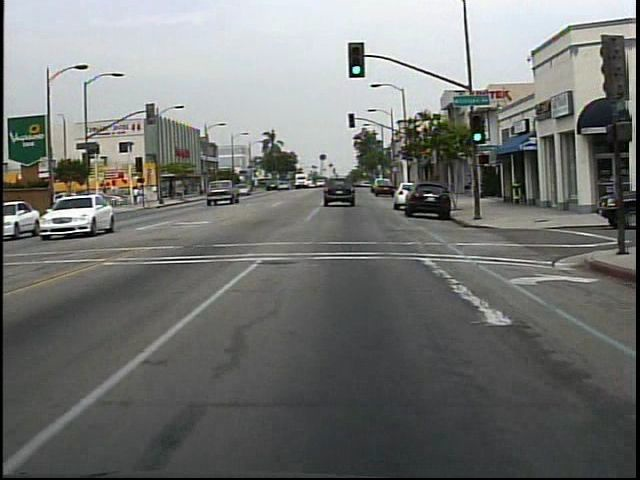person: (135, 184, 140, 207)
